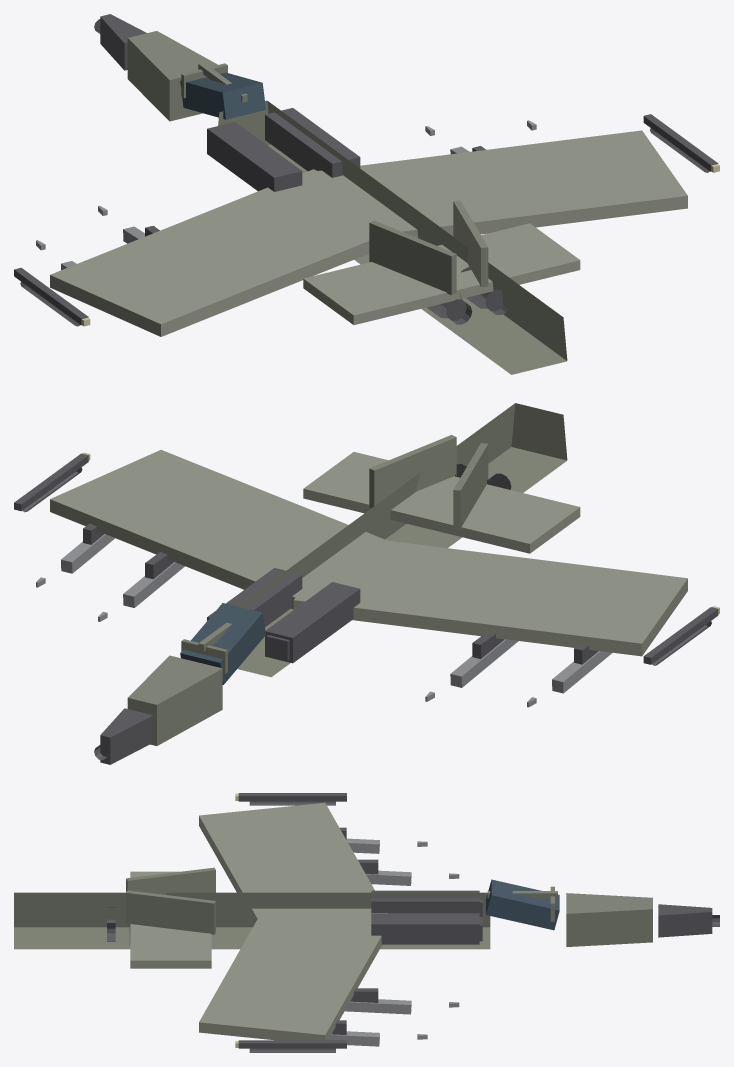
The model's file is western_aircraft.glb.
The picture shows the model from 3 angles, top to bottom: view 1: azimuth 30°, elevation 25°; view 2: azimuth 150°, elevation 25°; view 3: azimuth 270°, elevation 25°; orthographic projection. The views are drawn at different scales.
Visible parts, largest first — view 1: WingL, WingR, hull, Tail, Intakes, Fin, Canopy, Nose, Nozzles, RailR, RailL, CanopyFrame; view 2: WingR, WingL, hull, Tail, Intakes, Fin, Canopy, Nose, StoreL, StoreR, RailL, RailR (+3 smaller); view 3: hull, WingR, WingL, Intakes, Fin, Tail, Canopy, Nose, StoreR, RailR, RailL, StoreL (+2 smaller).
Part boxes in pixels (bbox=[...]): WingL: bbox=[50, 169, 409, 336]; WingR: bbox=[302, 130, 687, 239]; hull: bbox=[127, 31, 567, 374]; Tail: bbox=[303, 223, 580, 324]; Intakes: bbox=[207, 108, 360, 191]; Fin: bbox=[369, 200, 488, 295]; Canopy: bbox=[180, 72, 265, 119]; Nose: bbox=[94, 14, 146, 70]; Nozzles: bbox=[427, 266, 508, 324]; RailR: bbox=[643, 114, 718, 172]; RailL: bbox=[14, 267, 88, 326]; CanopyFrame: bbox=[181, 62, 247, 102]; WingR: bbox=[50, 450, 424, 609]; WingL: bbox=[293, 537, 687, 656]; hull: bbox=[127, 403, 567, 745]; Tail: bbox=[303, 452, 580, 553]; Intakes: bbox=[207, 568, 360, 663]; Fin: bbox=[369, 435, 488, 529]; Canopy: bbox=[180, 603, 265, 684]; Nose: bbox=[94, 708, 153, 764]; StoreL: bbox=[425, 639, 612, 707]; StoreR: bbox=[36, 534, 184, 621]; RailL: bbox=[643, 607, 718, 665]; RailR: bbox=[14, 453, 88, 512]; hull: bbox=[14, 892, 652, 949]; WingR: bbox=[199, 910, 381, 1040]; WingL: bbox=[199, 802, 387, 935]; Intakes: bbox=[371, 890, 482, 944]; Fin: bbox=[126, 867, 215, 934]; Tail: bbox=[130, 871, 211, 968]; Canopy: bbox=[486, 879, 559, 930]; Nose: bbox=[658, 904, 719, 937]; StoreR: bbox=[328, 999, 459, 1046]; RailR: bbox=[238, 1040, 346, 1052]; RailL: bbox=[238, 793, 346, 805]; StoreL: bbox=[346, 838, 459, 885].
Bounding box in the file's own units: 13.68 × 1.59 × 16.3.
